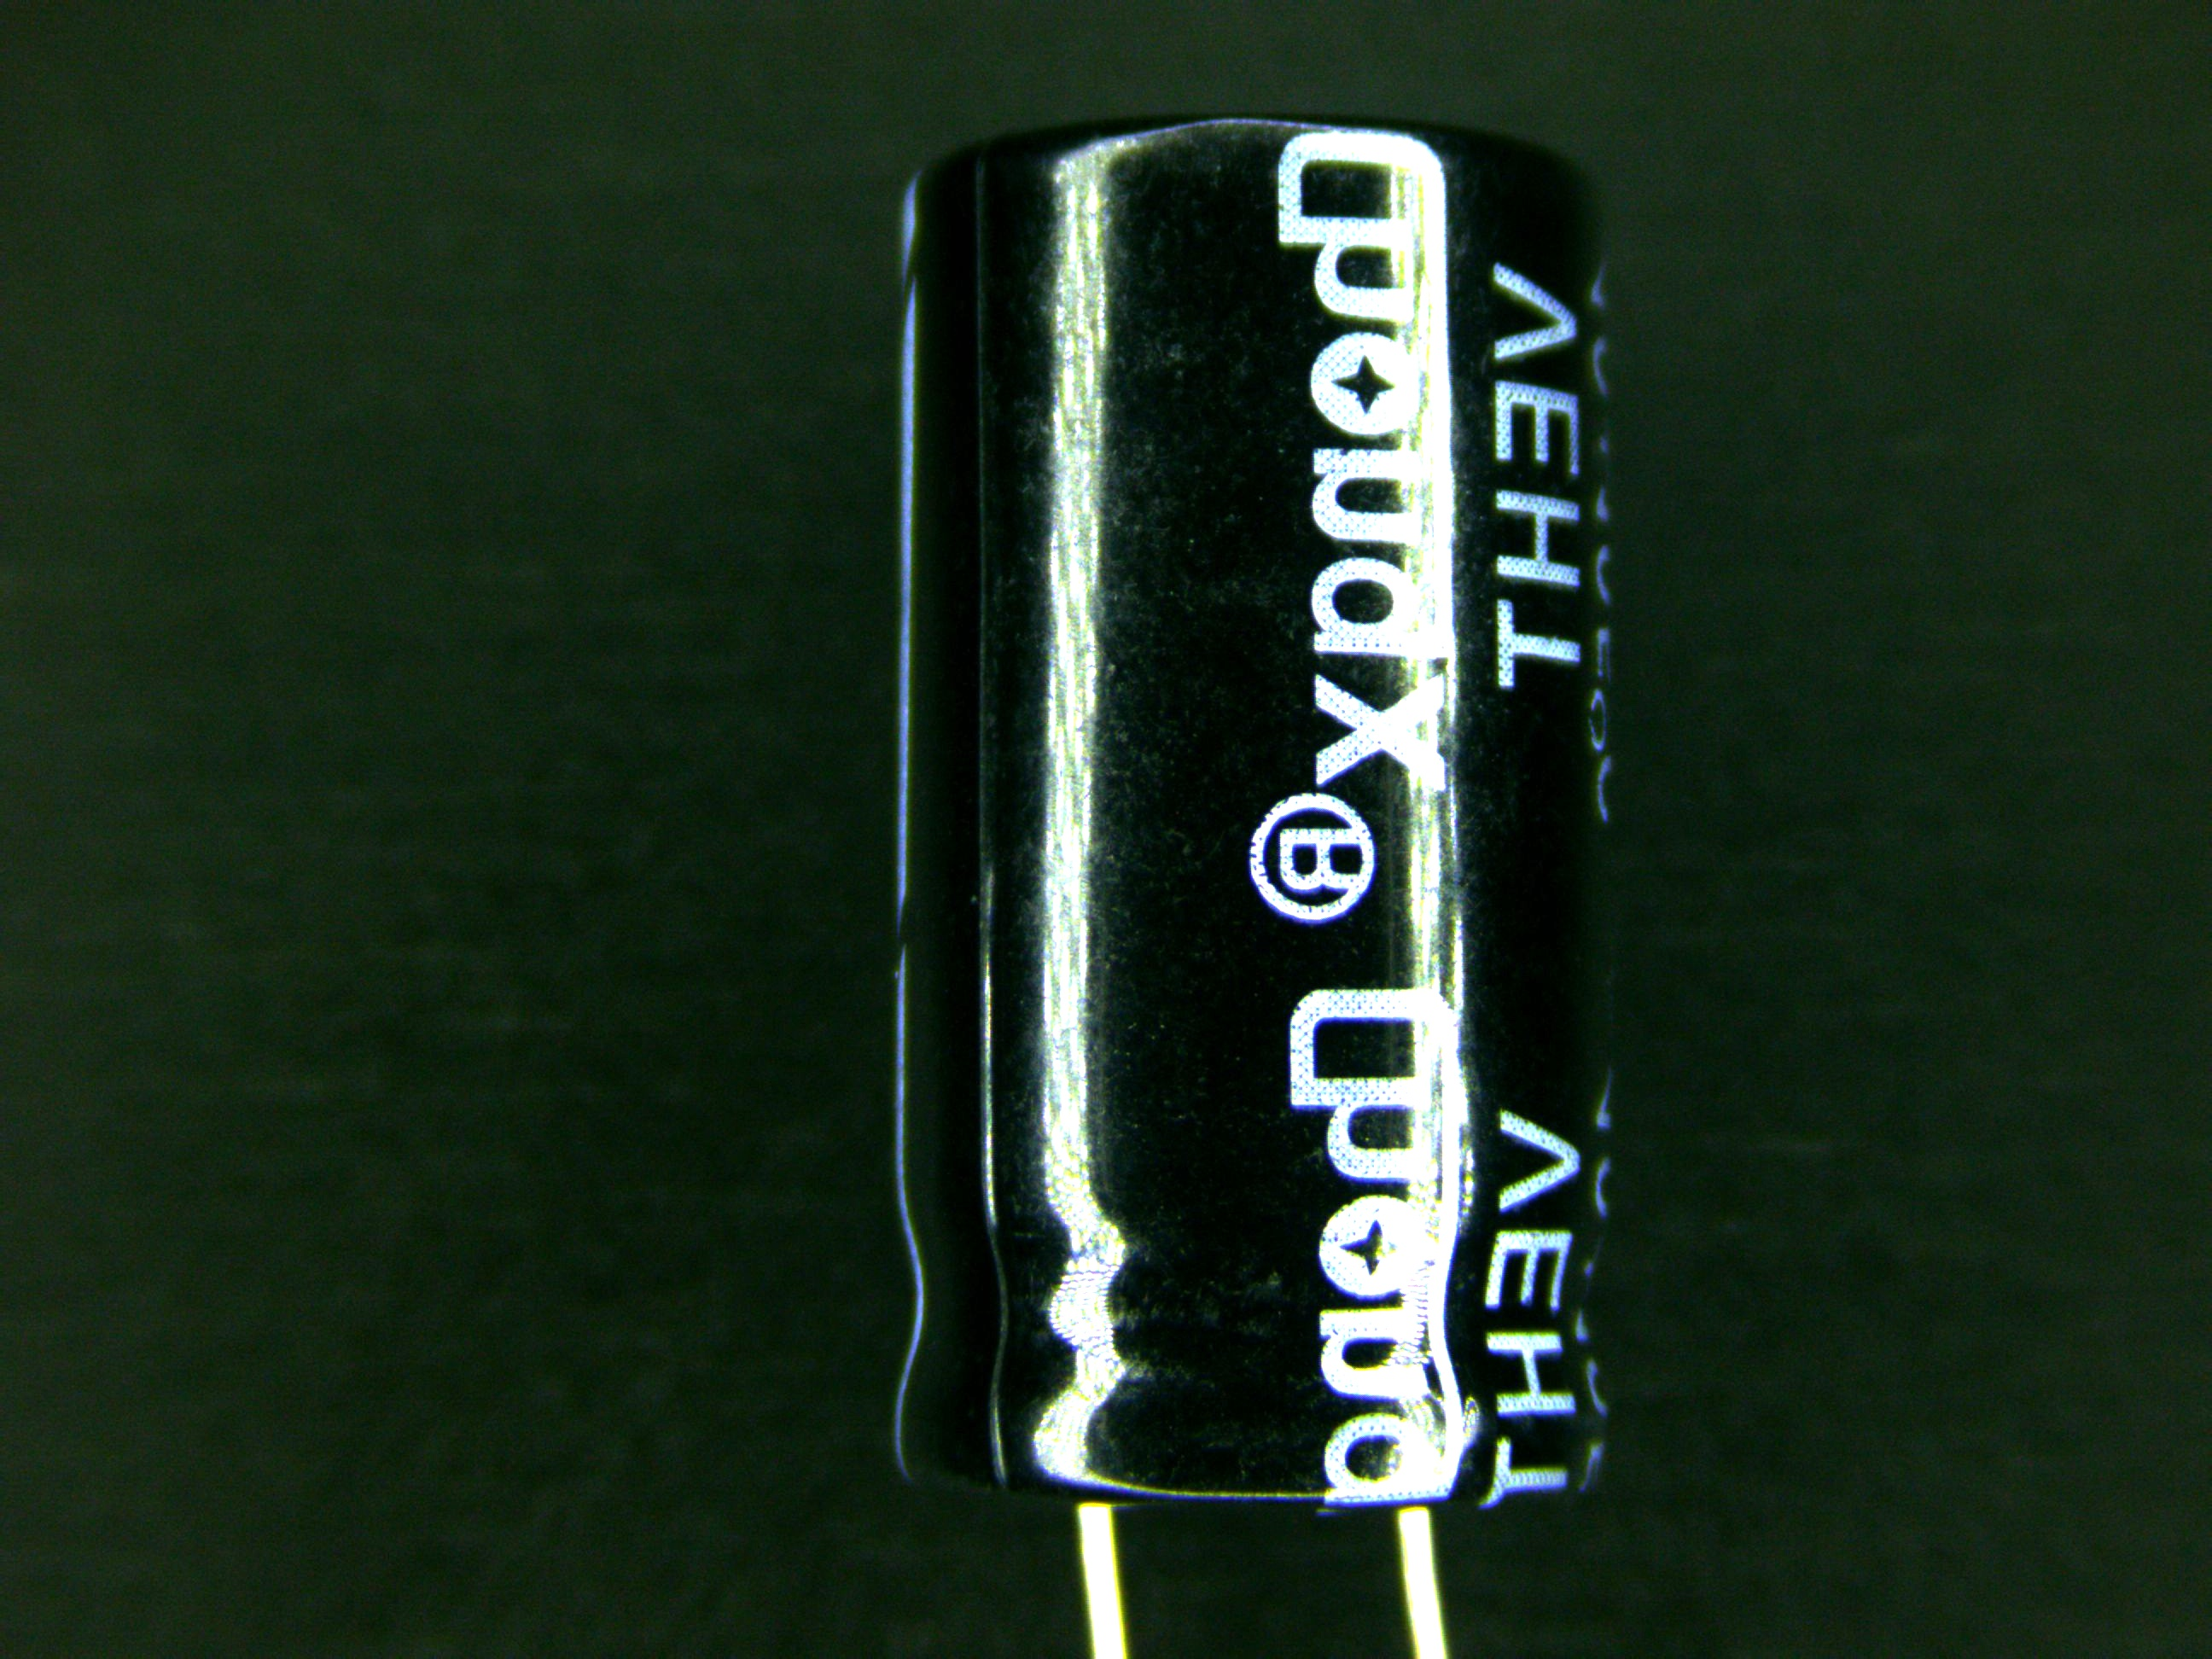c3: (876, 106, 1639, 1534)
